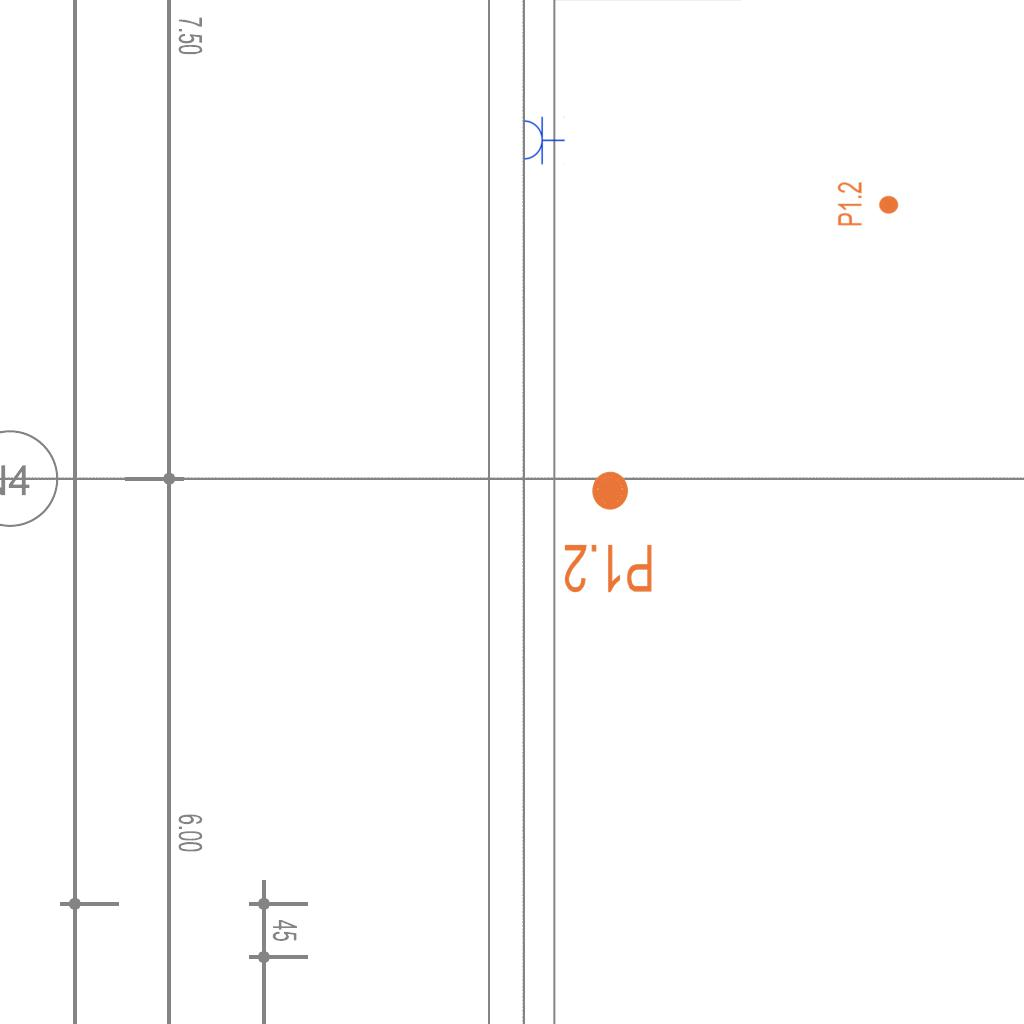Downlight_LED_Einbauleuchten_Flur: (562, 468, 655, 596), (836, 181, 900, 227)
Schukosteckdose_einfach: (522, 115, 565, 165)
